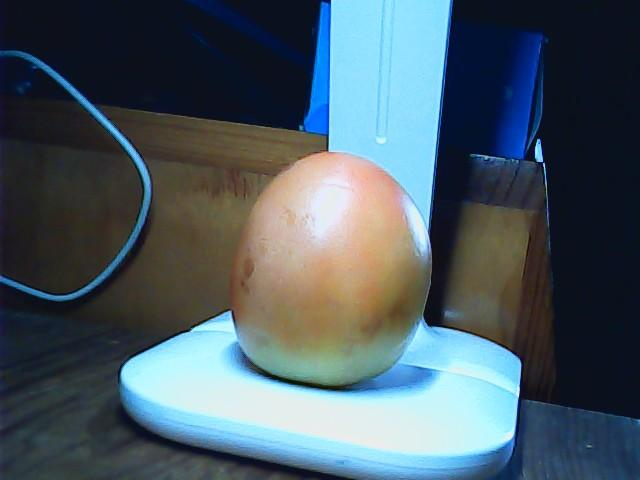verde: (228, 150, 436, 389)
